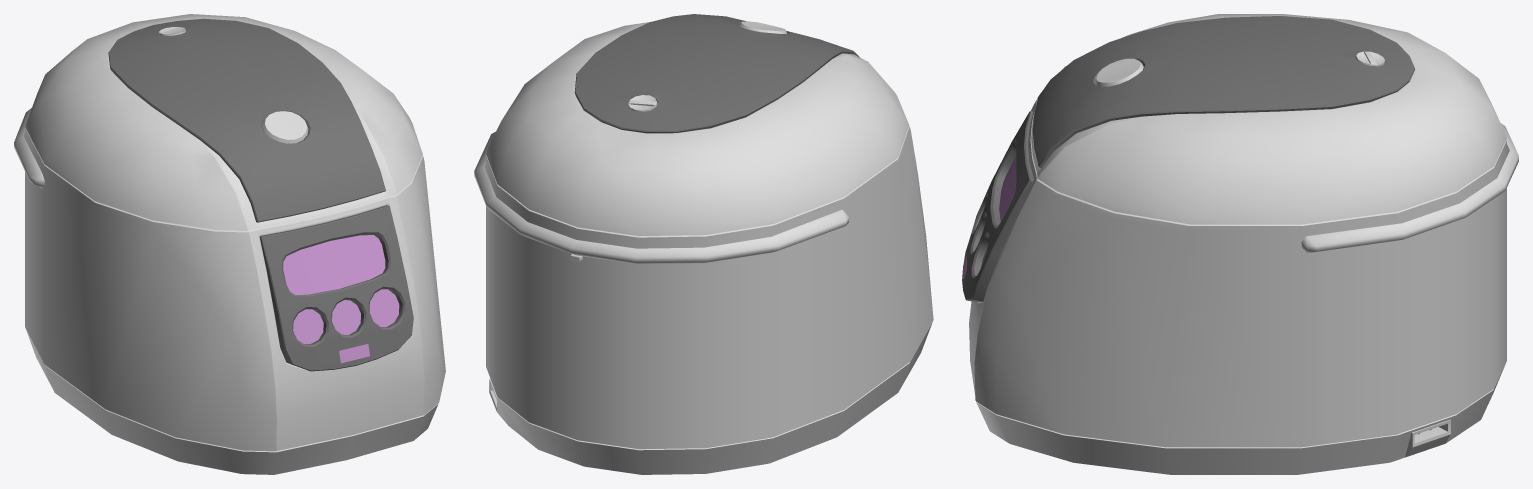
The model's file is SYECJDF110M.FBX.
3 views of the same model, side by side, from view 1: azimuth 30°, elevation 25°; view 2: azimuth 150°, elevation 25°; view 3: azimuth 270°, elevation 25° (orthographic). The views are drawn at different scales.
Visible parts, largest first — view 1: SYECJDF110M; view 2: SYECJDF110M; view 3: SYECJDF110M.
Boxes of the visible parts, x1,y1,x2,y2 form: SYECJDF110M: (14, 14, 445, 474); SYECJDF110M: (474, 14, 933, 474); SYECJDF110M: (962, 14, 1518, 474).
Bounding box in the file's own units: 622 × 544 × 810.
